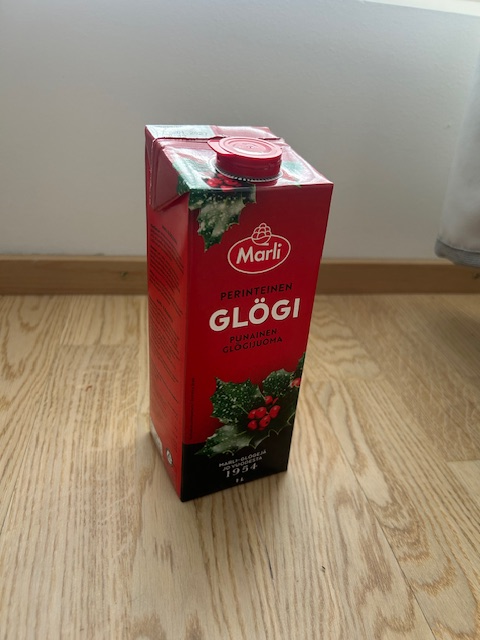Dryckeskartong: (145, 125, 335, 504)
